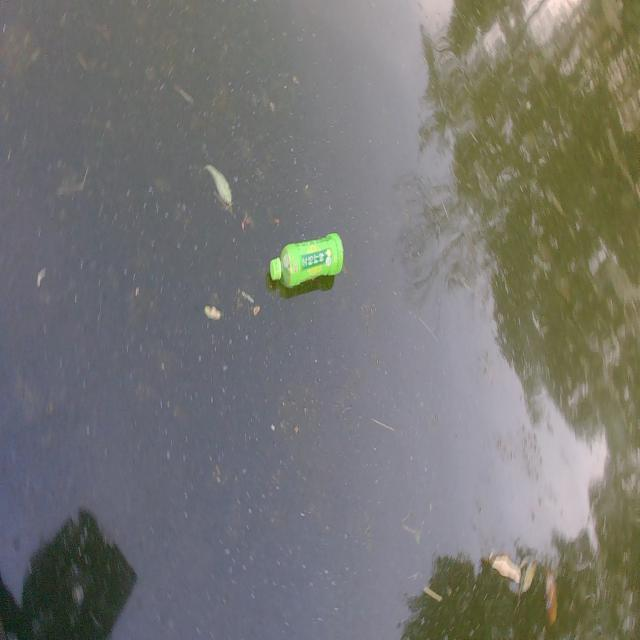Bottle: (266, 229, 349, 292)
